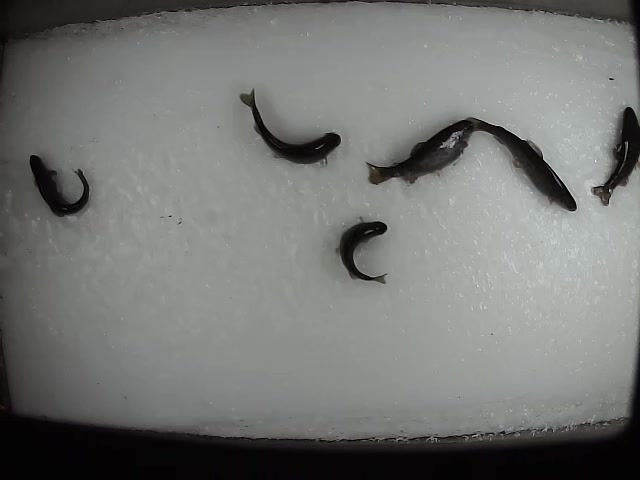fish: (463, 112, 579, 214), (237, 87, 343, 169), (364, 116, 476, 188), (588, 103, 640, 208), (26, 151, 95, 219), (332, 212, 389, 287)
